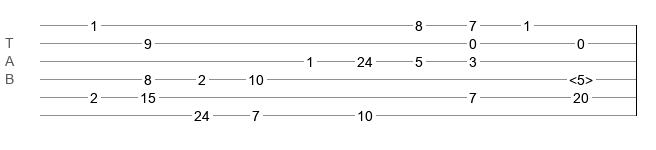0: (469, 36, 477, 46), (577, 36, 585, 46)
1: (90, 18, 98, 28), (306, 54, 314, 64), (523, 18, 531, 28)
10: (248, 72, 264, 82), (357, 108, 373, 118)
15: (140, 90, 156, 100)
2: (90, 90, 98, 100), (198, 72, 206, 82)
20: (573, 90, 589, 100)
24: (194, 108, 210, 118), (357, 54, 373, 64)
3: (469, 54, 477, 64)
5: (415, 54, 423, 64)
7: (252, 108, 260, 118), (469, 18, 477, 28), (469, 90, 477, 100)
8: (144, 72, 152, 82), (415, 18, 423, 28)
9: (144, 36, 152, 46)
harmonic: (569, 72, 593, 82)
